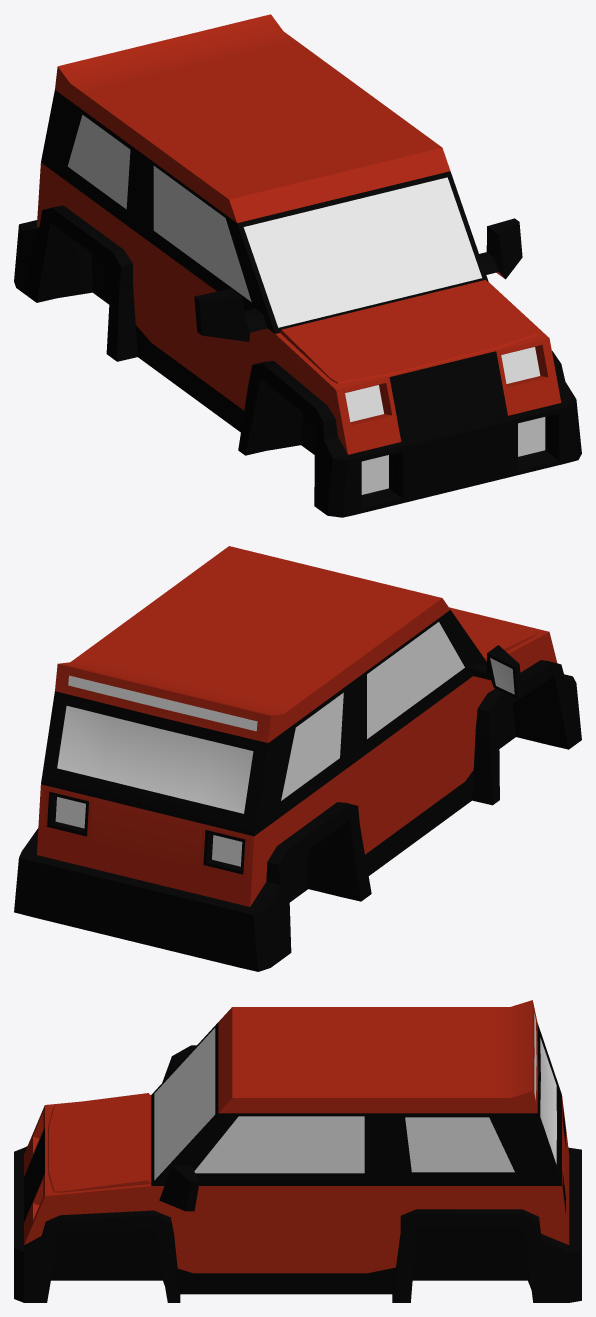
The model's file is carSuv.fbx.
3 views of the same model, one above another, from view 1: azimuth 30°, elevation 25°; view 2: azimuth 150°, elevation 25°; view 3: azimuth 270°, elevation 25° (orthographic). The views are drawn at different scales.
Visible parts, largest first — view 1: Cube; view 2: Cube; view 3: Cube.
Part boxes in pixels (x1,y1,x2,y2): Cube: [14, 14, 581, 517]; Cube: [14, 546, 581, 971]; Cube: [14, 1000, 581, 1302].
Bounding box in the file's own units: 2.99 × 2.07 × 5.24.
